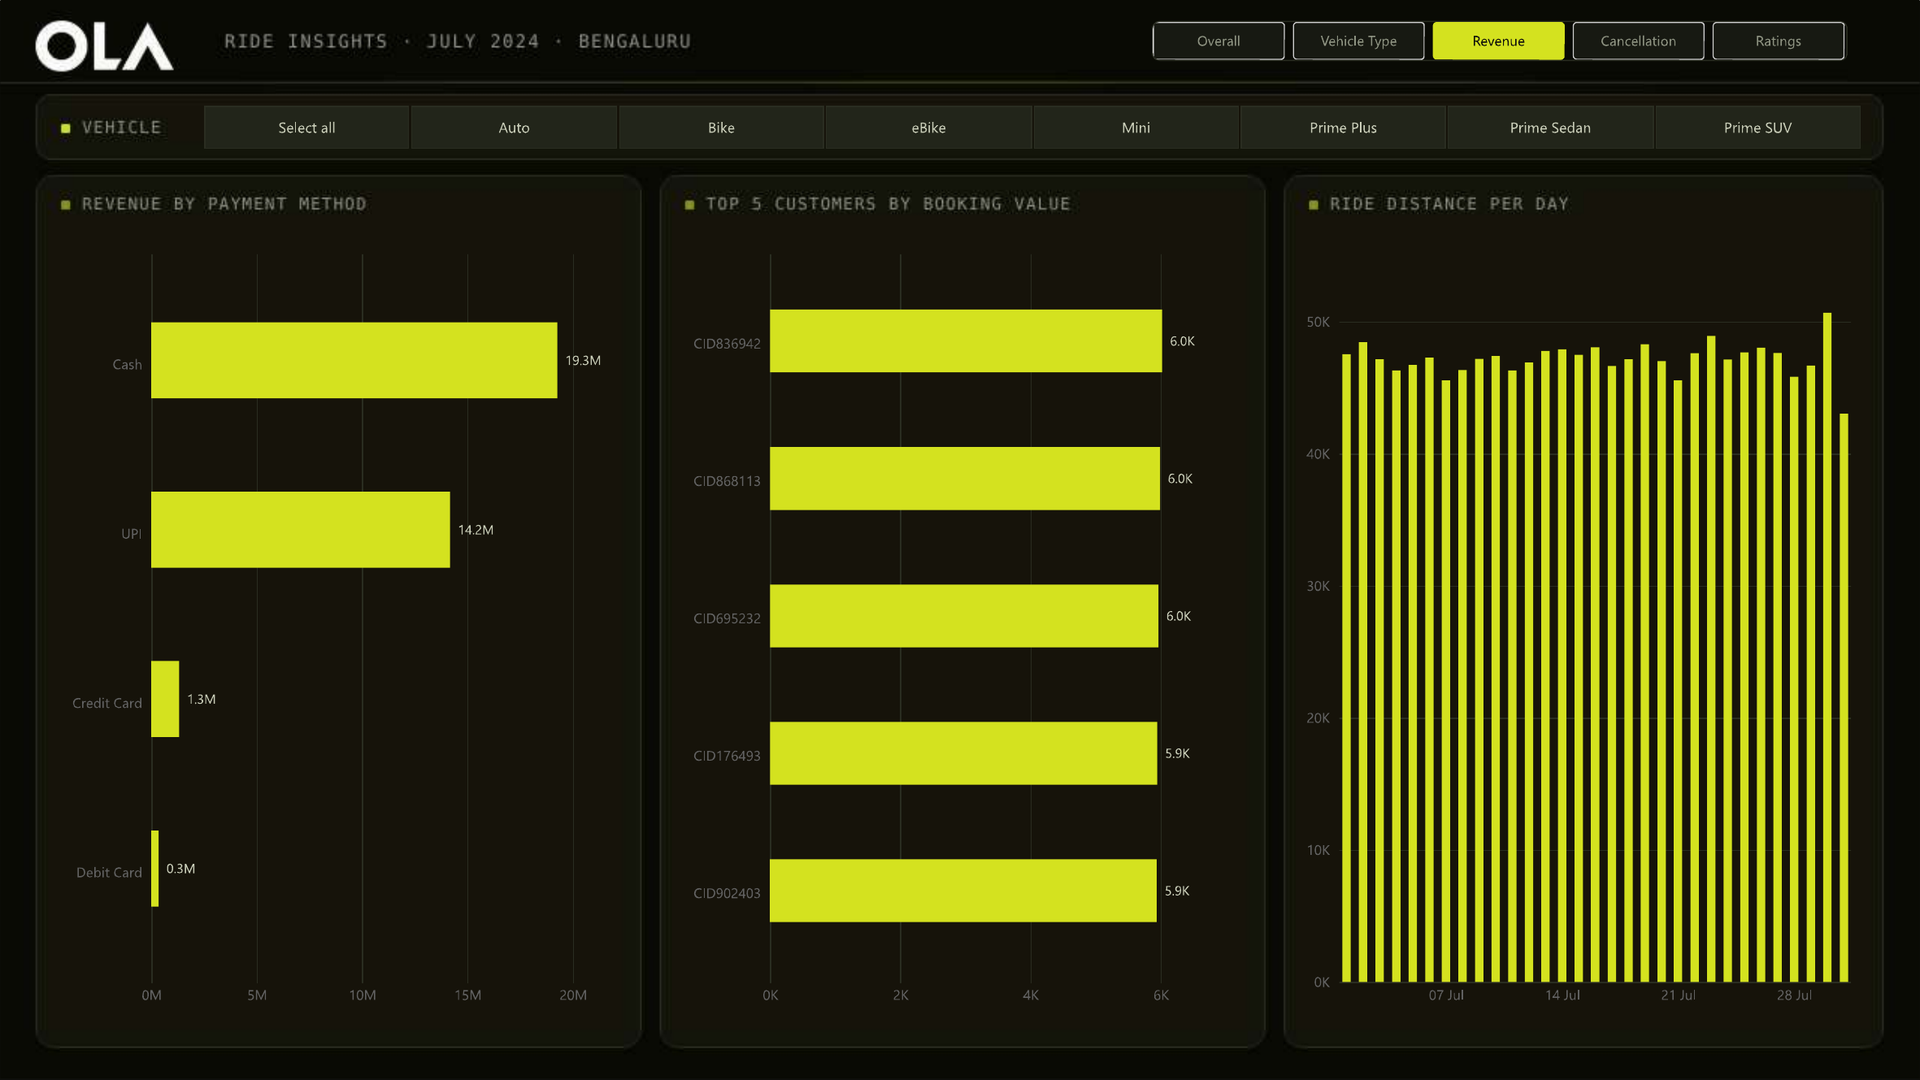

What the dashboard file says about the page in this screenshot:
{"tool":"powerbi","page":{"name":"Revenue","canvas":[1920,1080],"ordinal":2},"visuals":[{"type":"clusteredBarChart","fields":{"Category":["ola_db bookings.Payment_Method"],"Y":["_Measures.Success Booking Value"]},"box":[50,232,582,794],"z":0},{"type":"clusteredBarChart","fields":{"Category":["ola_db bookings.Customer_ID"],"Y":["_Measures.Success Booking Value"]},"box":[672,232,578,794],"z":1000},{"type":"clusteredColumnChart","fields":{"Category":["ola_db bookings.Booking_Date"],"Y":["_Measures.Total Distance"]},"box":[1290,232,590,794],"z":2000},{"type":"slicer","fields":{"Values":["ola_db bookings.Vehicle_Type"]},"box":[182.9,102.9,1697.1,47.1],"z":3000},{"type":"pageNavigator","box":[1152,20,696,40],"z":4000}]}

Visuals, with their boxes in screenshot pixels (x1, y1, x2, y2), scaled from the page's 1920x1080 canvas onto the 1920x1080 screenshot:
clusteredBarChart - ola_db bookings.Payment_Method x _Measures.Success Booking Value: x1=50, y1=232, x2=632, y2=1026
clusteredBarChart - ola_db bookings.Customer_ID x _Measures.Success Booking Value: x1=672, y1=232, x2=1250, y2=1026
clusteredColumnChart - ola_db bookings.Booking_Date x _Measures.Total Distance: x1=1290, y1=232, x2=1880, y2=1026
slicer - ola_db bookings.Vehicle_Type: x1=183, y1=103, x2=1880, y2=150
pageNavigator: x1=1152, y1=20, x2=1848, y2=60
